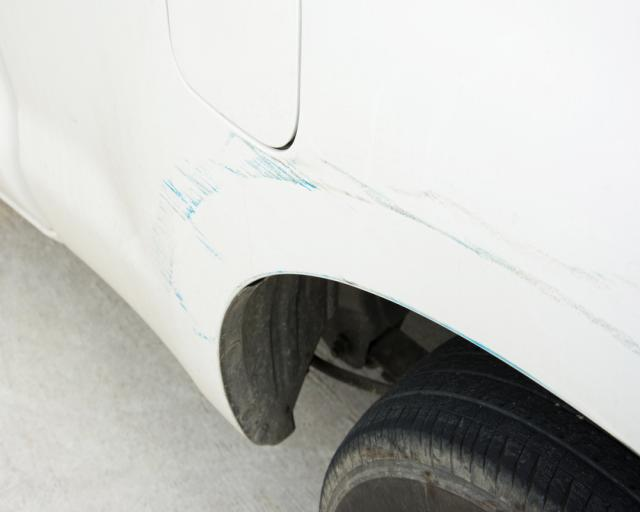scratch: (150, 131, 640, 364)
